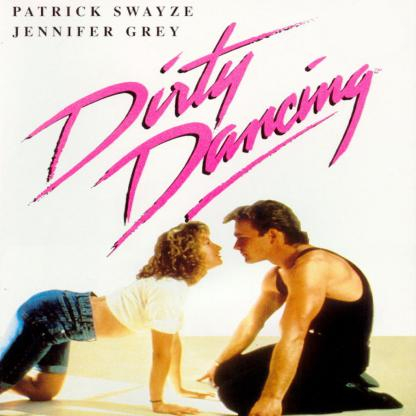face: (234, 219, 267, 265), (197, 231, 226, 265)
